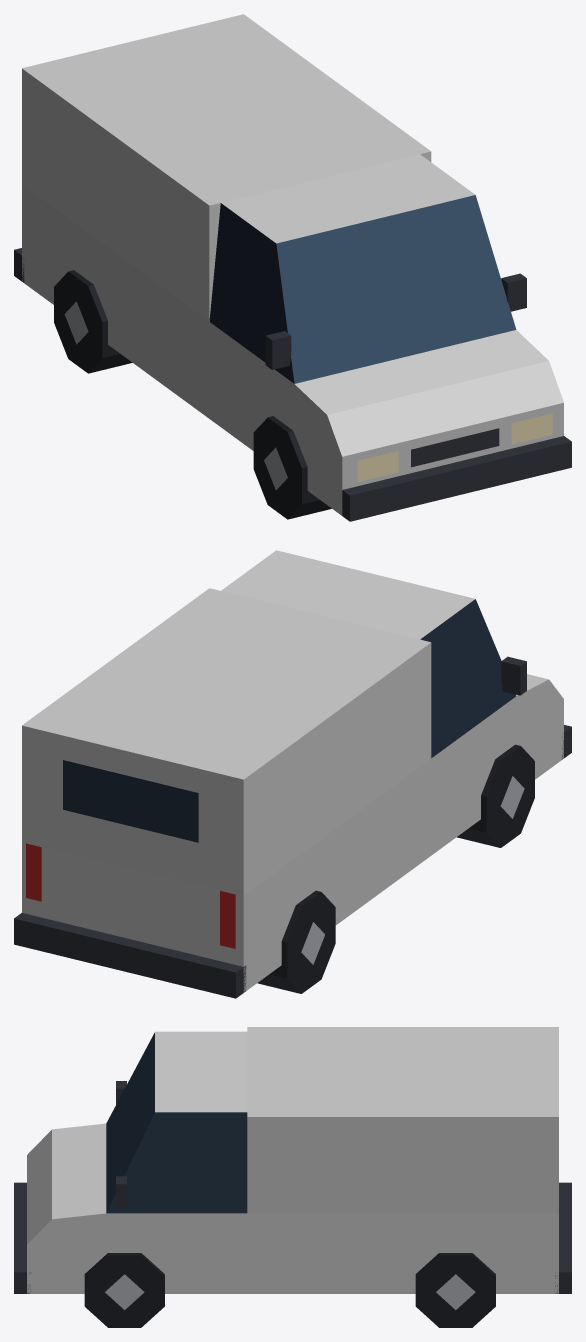
The model's file is prop_car_van.glb.
3 renders of one model, top to bottom at view 1: azimuth 30°, elevation 25°; view 2: azimuth 150°, elevation 25°; view 3: azimuth 270°, elevation 25°, orthographic. The views are drawn at different scales.
Parts seen in each view (by area): view 1: prop_car_van; view 2: prop_car_van; view 3: prop_car_van.
Boxes of the visible parts, bbox=[...] form: prop_car_van: bbox=[14, 14, 571, 521]; prop_car_van: bbox=[14, 550, 571, 998]; prop_car_van: bbox=[14, 1027, 571, 1327].
Bounding box in the file's own units: 2.25 × 2.12 × 5.14.
